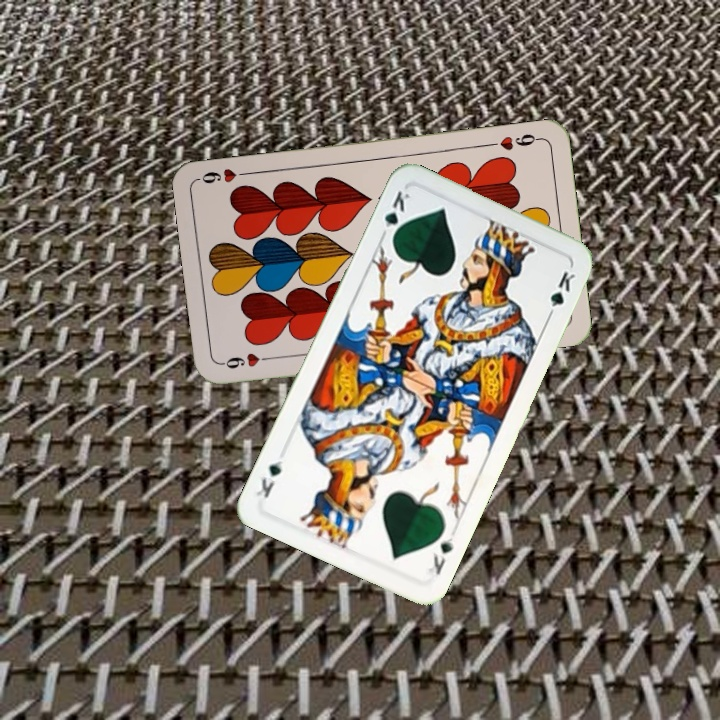GK: (380, 186, 414, 244), (423, 533, 456, 577)
H9: (484, 129, 543, 153), (218, 348, 277, 371)
